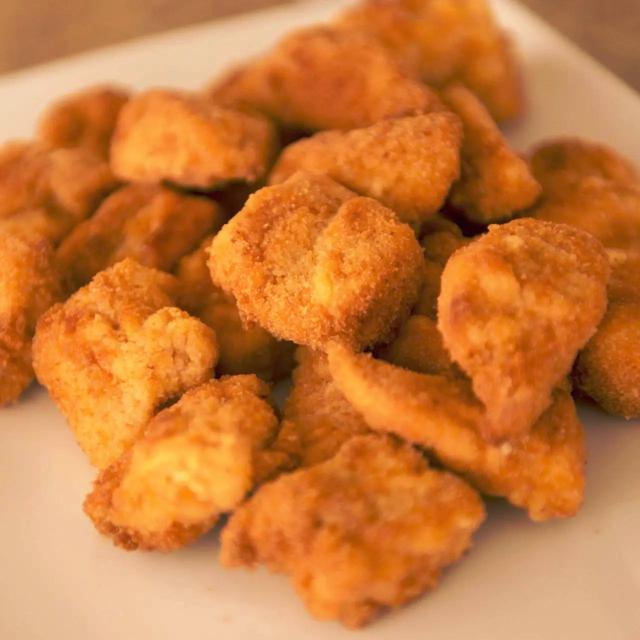chicken_nuggets: (1, 2, 640, 628)
